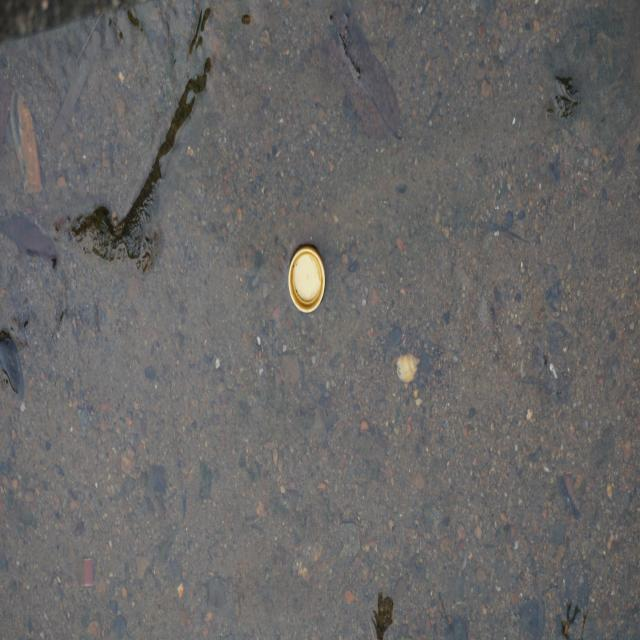Botol Plastik: (285, 241, 329, 318)
